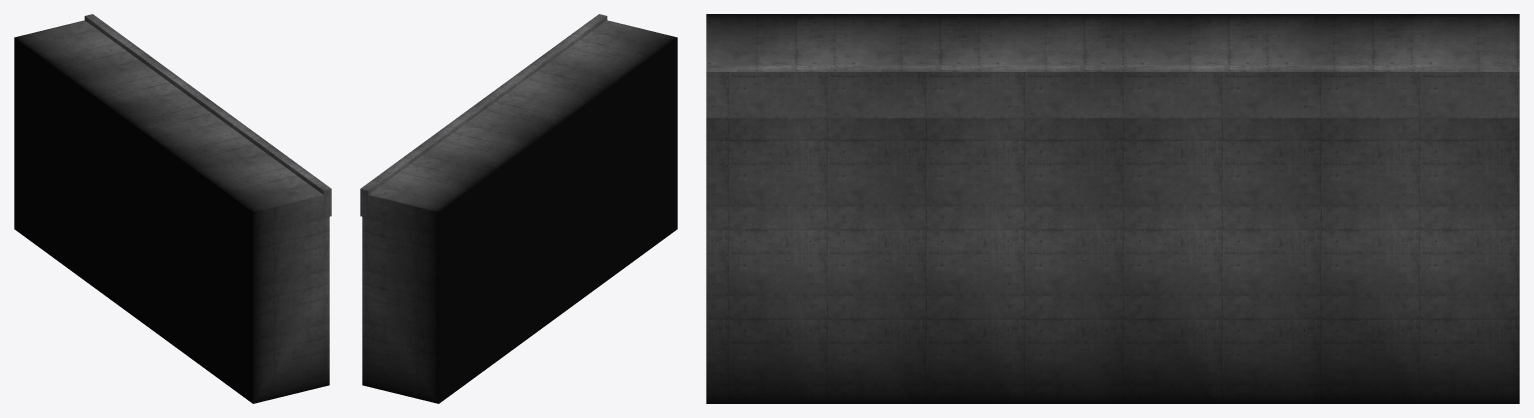
The model's file is AMB_MEI_R_WALL.glb.
The picture shows the model from 3 angles, left to right: view 1: azimuth 30°, elevation 25°; view 2: azimuth 150°, elevation 25°; view 3: azimuth 270°, elevation 25°; orthographic projection. The views are drawn at different scales.
Parts seen in each view (by area): view 1: Mesh1; view 2: Mesh1; view 3: Mesh1.
Part boxes in pixels (x1,y1,x2,y2): Mesh1: [14, 14, 331, 403]; Mesh1: [360, 14, 677, 403]; Mesh1: [706, 14, 1519, 403].
Bounding box in the file's own units: 18.99 × 45.28 × 100.
1 material, 1 textured.
